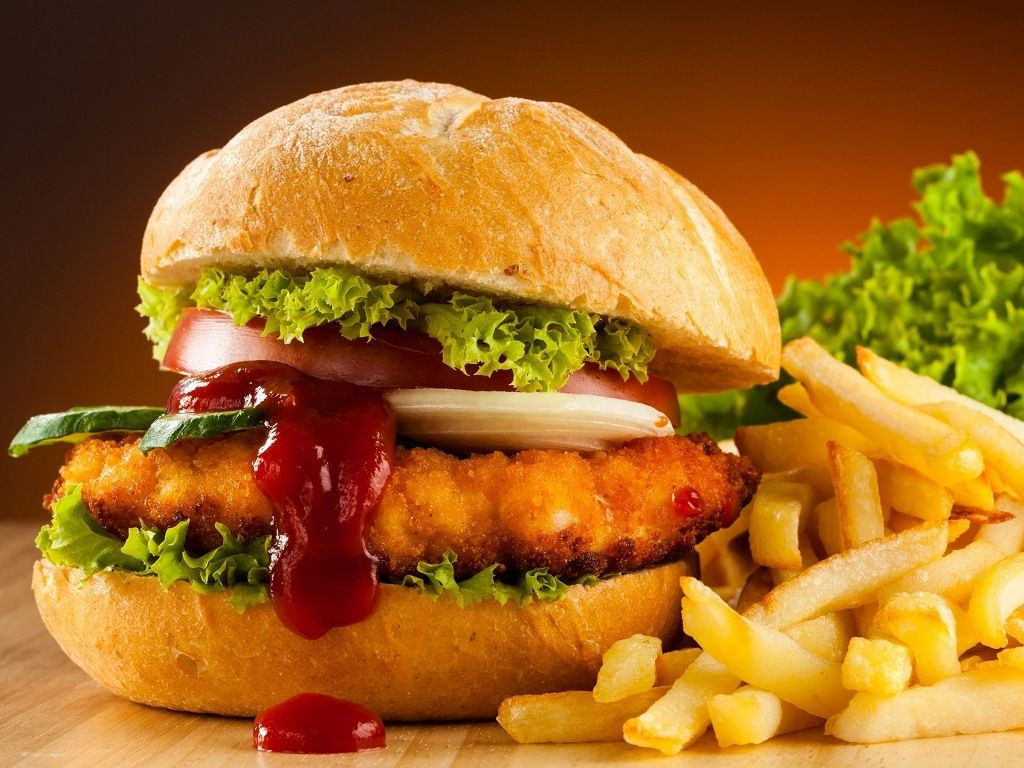chopped lettuce: (776, 164, 1024, 404)
slice of bread: (139, 55, 797, 361), (35, 532, 743, 724)
